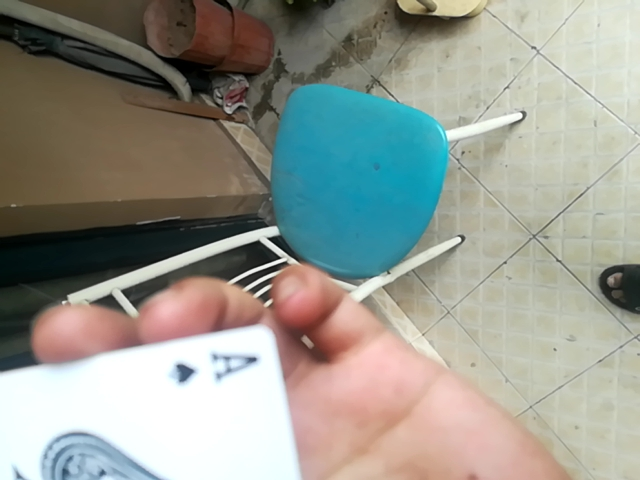ht a: (3, 319, 308, 480)
